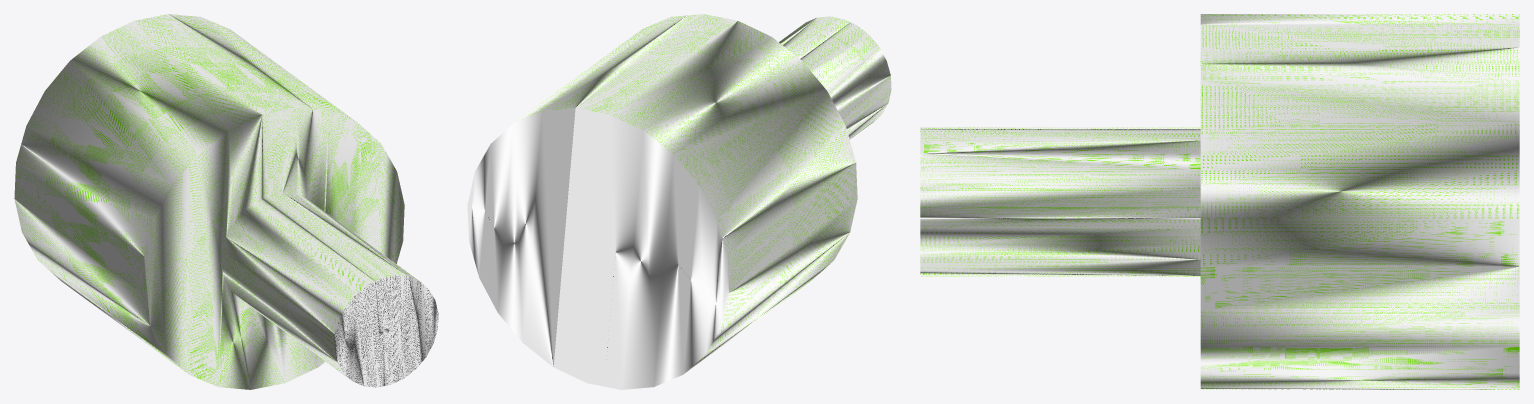
The model's file is model_align.obj.
3 views of the same model, side by side, from view 1: azimuth 30°, elevation 25°; view 2: azimuth 150°, elevation 25°; view 3: azimuth 270°, elevation 25° (orthographic). The views are drawn at different scales.
Bounding box in the file's own units: 0.1339 × 0.1339 × 0.2134.
